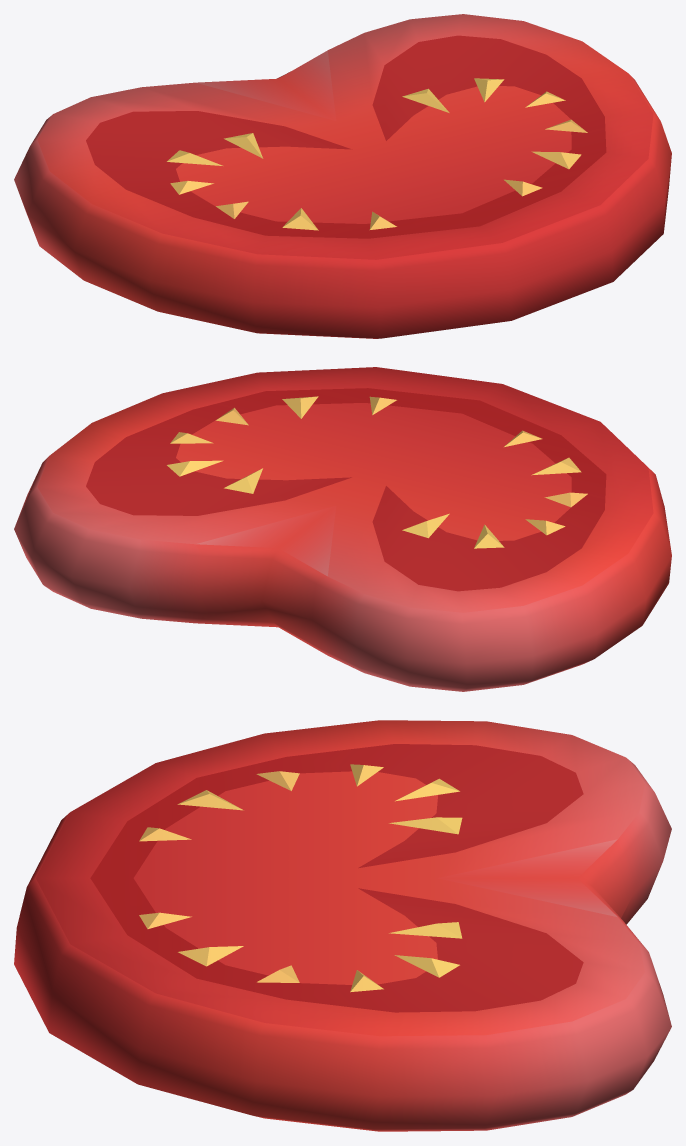
File: tomato_004.fbx
3 renders of one model, top to bottom at view 1: azimuth 30°, elevation 25°; view 2: azimuth 150°, elevation 25°; view 3: azimuth 270°, elevation 25°, orthographic. The views are drawn at different scales.
Visible parts, largest first — view 1: tomato_004; view 2: tomato_004; view 3: tomato_004.
Boxes of the visible parts, x1,y1,x2,y2 form: tomato_004: [14, 14, 671, 338]; tomato_004: [14, 367, 671, 691]; tomato_004: [14, 720, 671, 1131].
Size of the model in its own units: 7.96 by 6.56 by 1.14.
